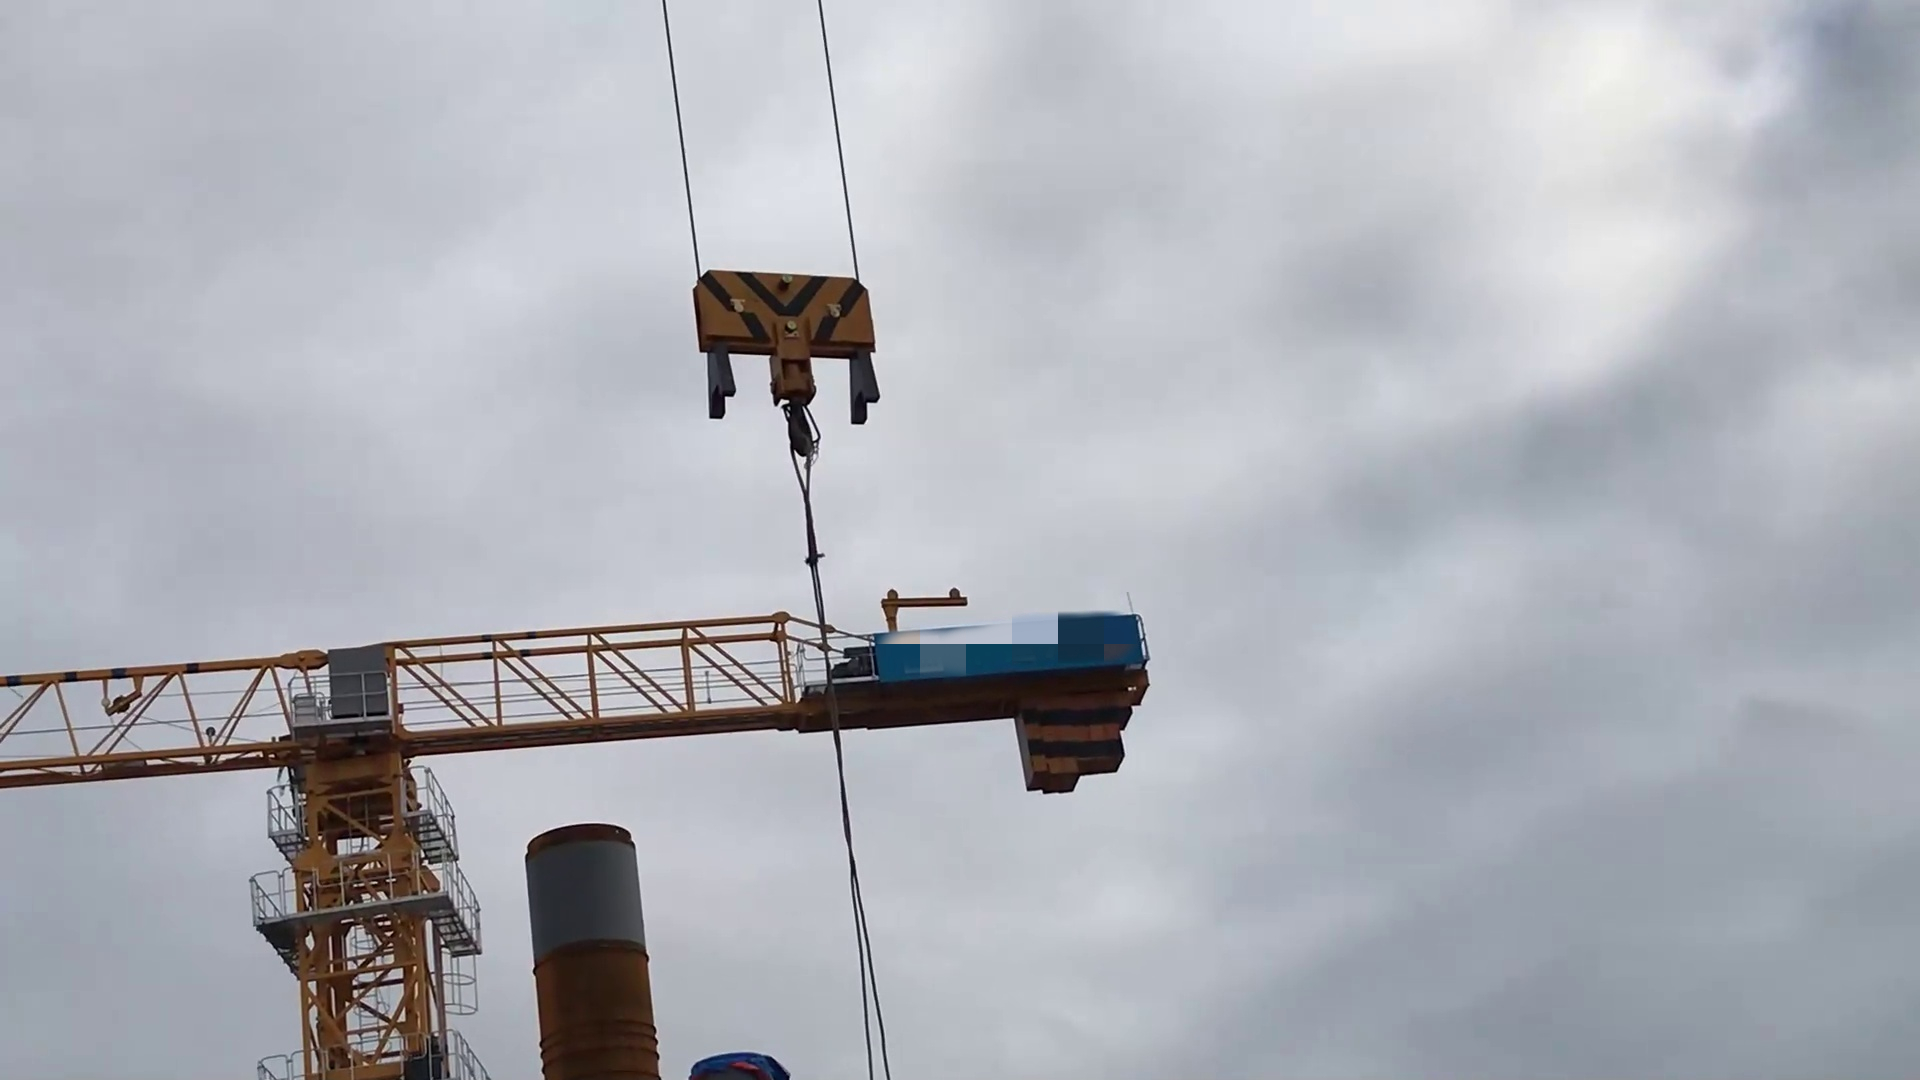hook: (675, 255, 895, 471)
